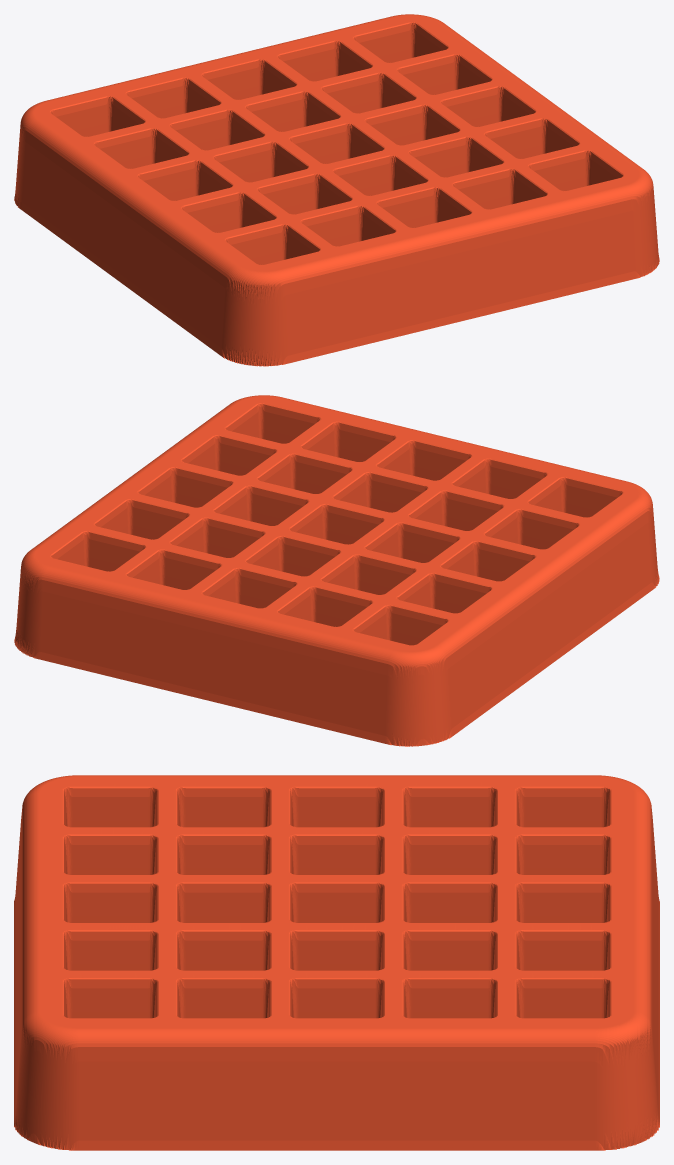
The model's file is mold.glb.
The picture shows the model from 3 angles, top to bottom: view 1: azimuth 30°, elevation 25°; view 2: azimuth 150°, elevation 25°; view 3: azimuth 270°, elevation 25°; orthographic projection. The views are drawn at different scales.
Visible parts, largest first — view 1: geometry_0; view 2: geometry_0; view 3: geometry_0.
Boxes of the visible parts, x1,y1,x2,y2 form: geometry_0: (14,14,659,366); geometry_0: (14,395,659,746); geometry_0: (14,775,659,1150).
Size of the model in its own units: 0.0902 by 0.0172 by 0.0902.
